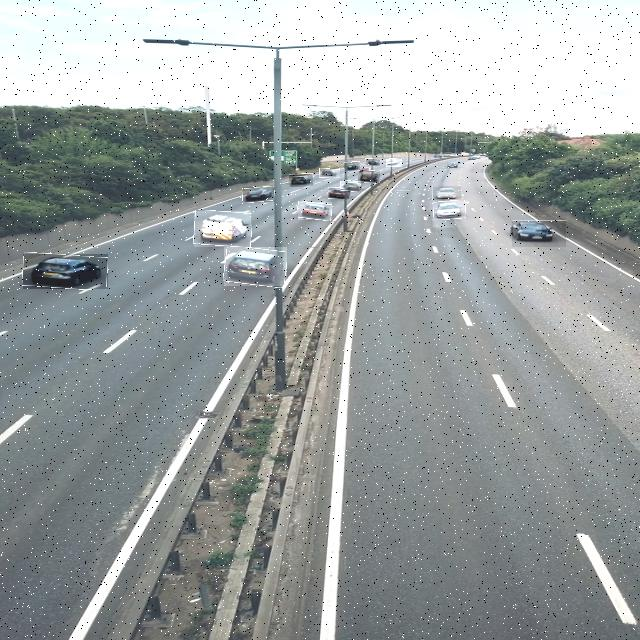Car: (23, 254, 108, 289), (224, 247, 287, 286), (512, 220, 566, 247), (433, 201, 466, 220), (298, 202, 332, 220), (243, 187, 275, 202), (432, 187, 461, 200), (289, 174, 313, 187), (358, 171, 380, 183), (328, 188, 350, 199), (340, 181, 361, 191), (319, 169, 340, 178), (344, 162, 360, 171), (386, 159, 402, 167), (446, 162, 462, 170), (365, 159, 380, 166)
Truck: (194, 211, 251, 247)
